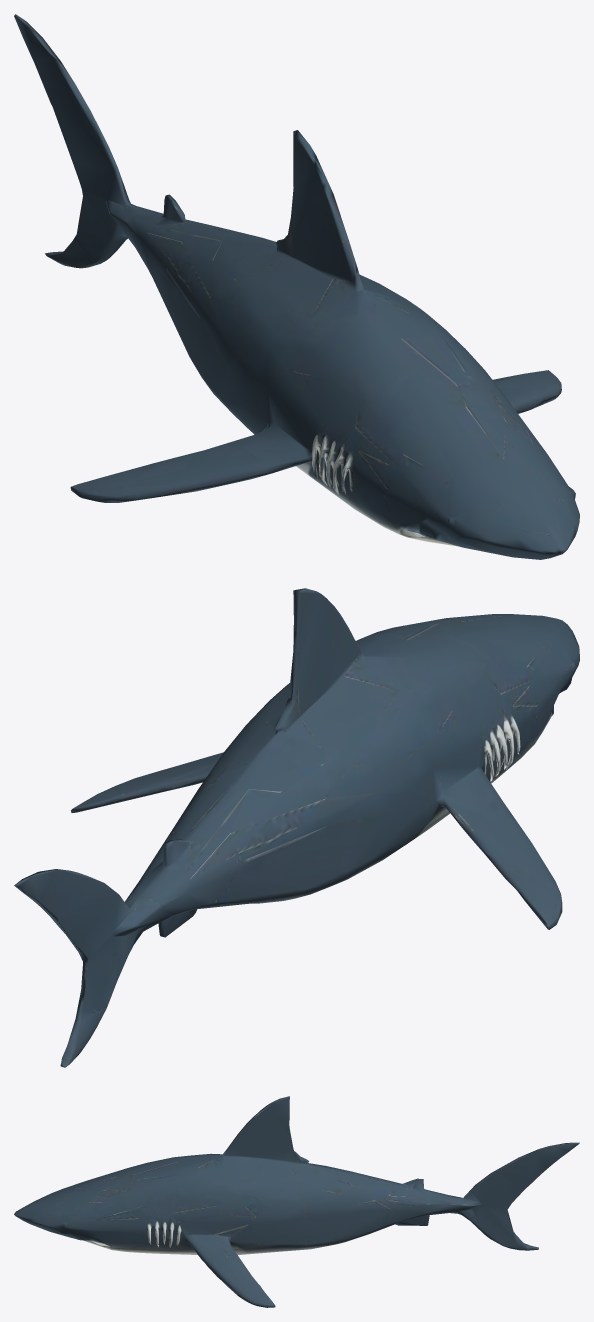
The picture shows the model from 3 angles, top to bottom: view 1: azimuth 30°, elevation 25°; view 2: azimuth 150°, elevation 25°; view 3: azimuth 270°, elevation 25°; orthographic projection. The views are drawn at different scales.
Size of the model in its own units: 0.9547 by 0.5908 by 1.89.
Materials: 1 (1 with a texture image).
